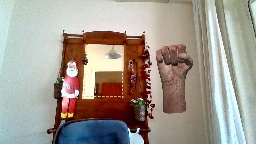Pugno: (155, 42, 195, 83)
